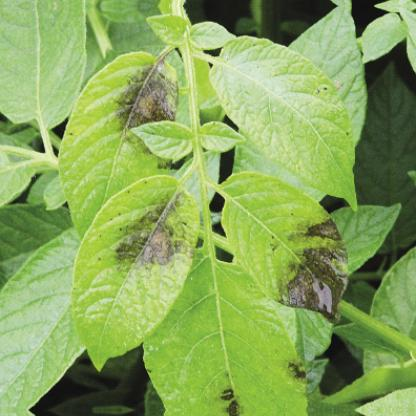Late-Blight: (246, 166, 380, 330), (84, 188, 210, 300), (80, 40, 192, 160)
